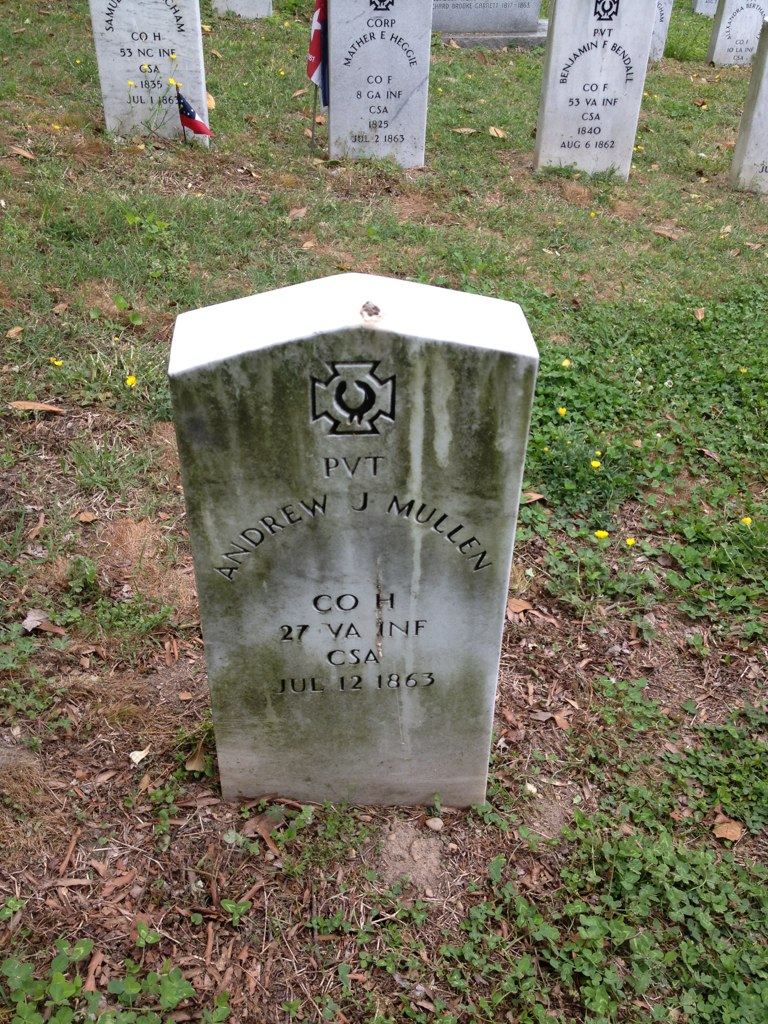military: (159, 268, 536, 811)
